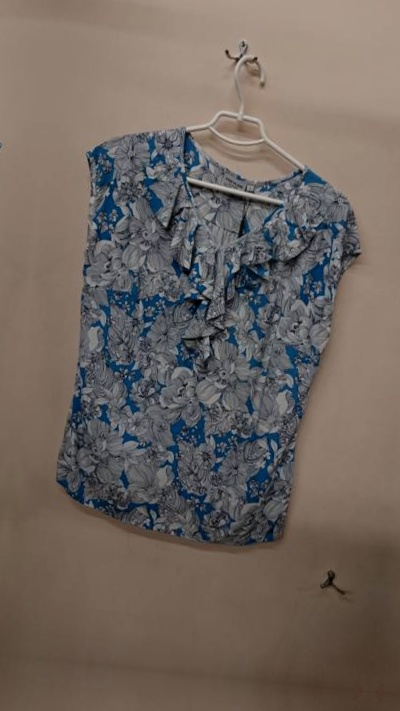Blouse: (23, 92, 378, 569), (0, 57, 31, 534)
